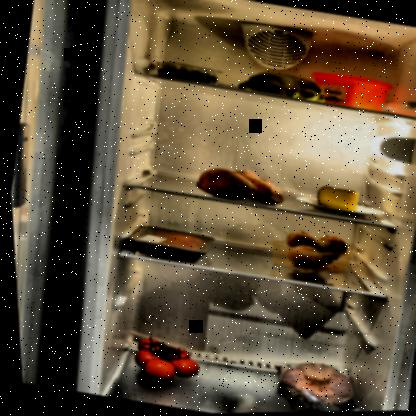banana: (236, 67, 329, 104)
beef: (133, 224, 201, 256)
blueberries: (151, 57, 222, 87)
butter: (306, 69, 398, 115)
cheese: (310, 184, 360, 215)
chicken: (265, 354, 363, 412)
onion: (275, 224, 350, 278)
sweet_potato: (189, 157, 297, 217)
tomato: (125, 331, 205, 390)
